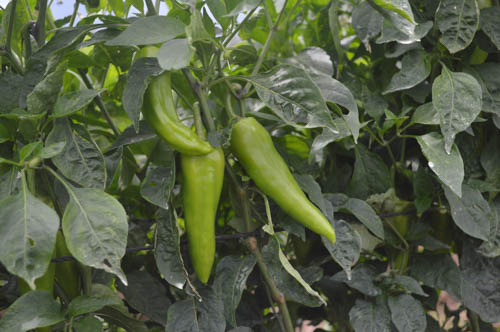ChiliPepper: (231, 120, 338, 241), (134, 46, 212, 156), (182, 145, 225, 286)
